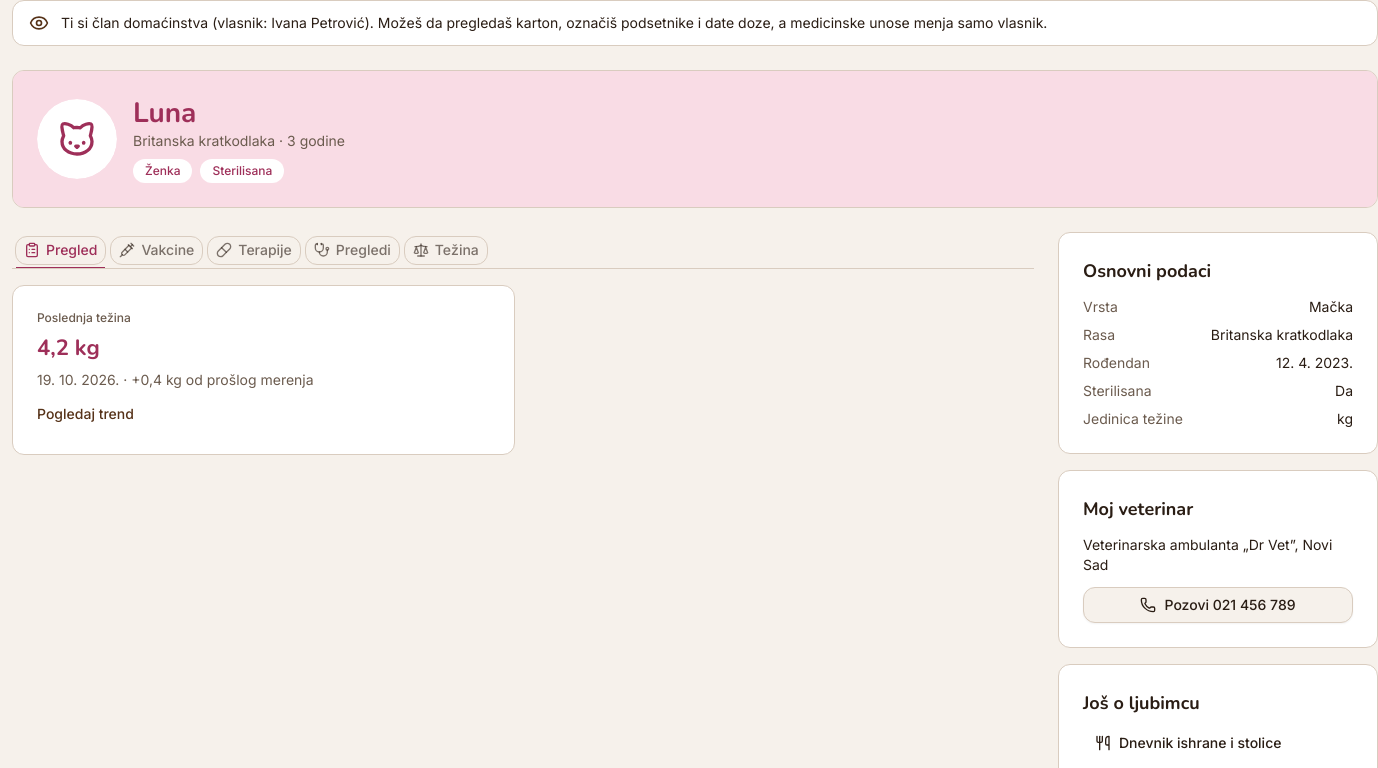
household member (read_only_reason household_member) › FR-28: views vaccinations without add, edit or delete controls
Click the tab "Vakcine".
click(157, 250)  # box [110, 236, 203, 264]
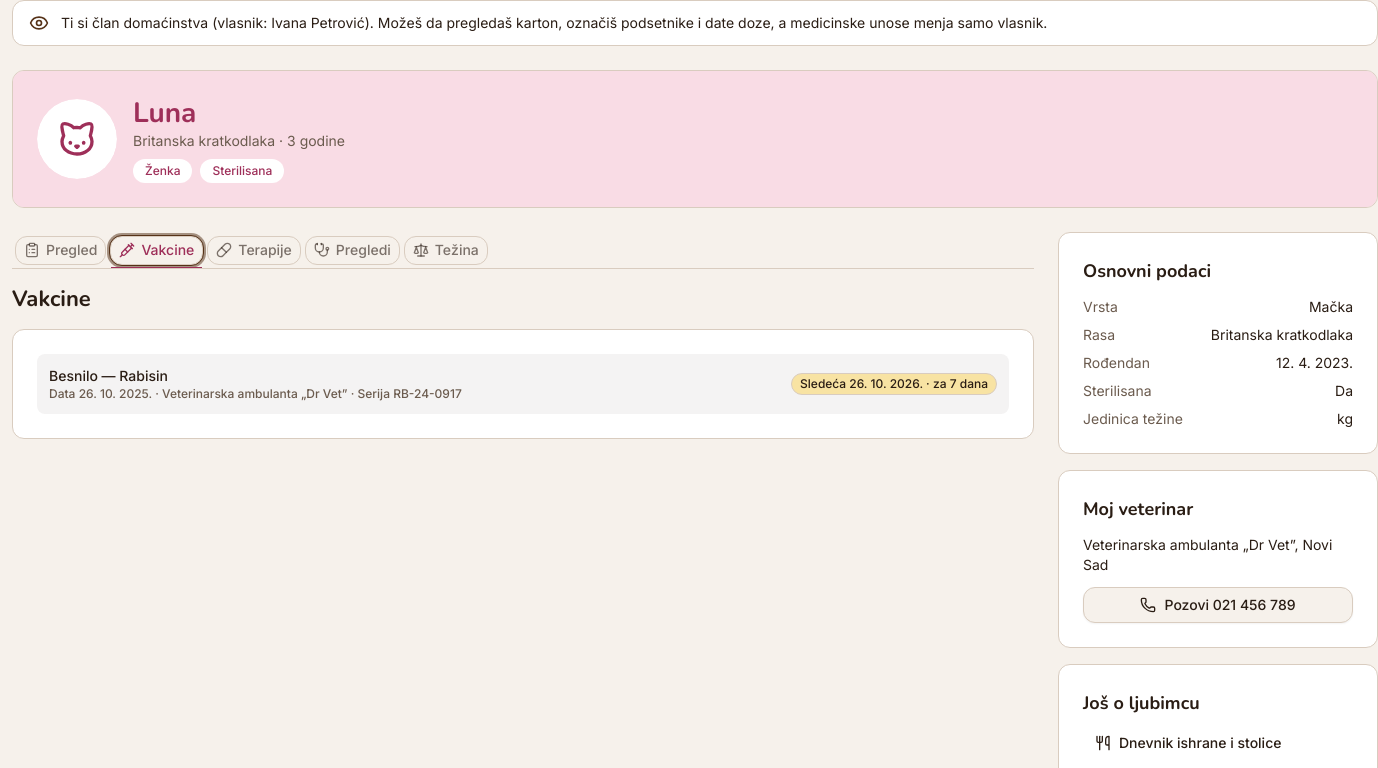
Expected: the text "Besnilo — Rabisin" is shown, [49, 367, 168, 384]
Expected: the text "Sledeća 26. 10. 2026. · za 7 dana" is shown, [791, 373, 997, 395]
